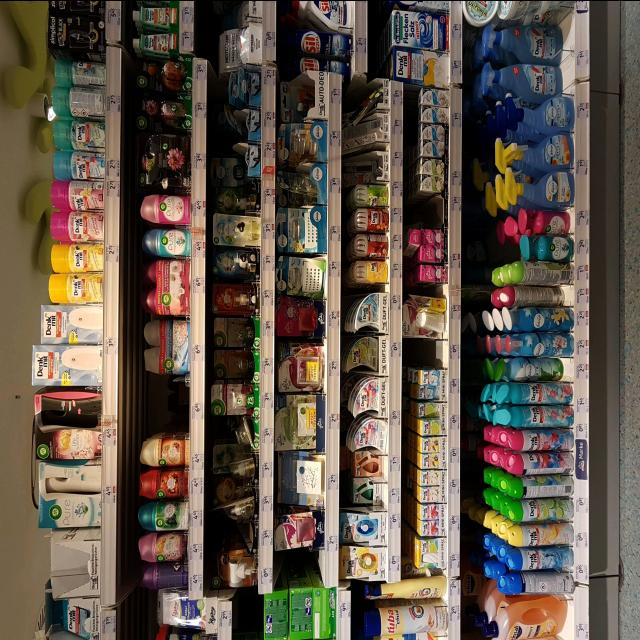empty_space: (144, 374, 188, 434), (286, 552, 321, 584), (414, 342, 442, 364), (417, 203, 439, 223)
